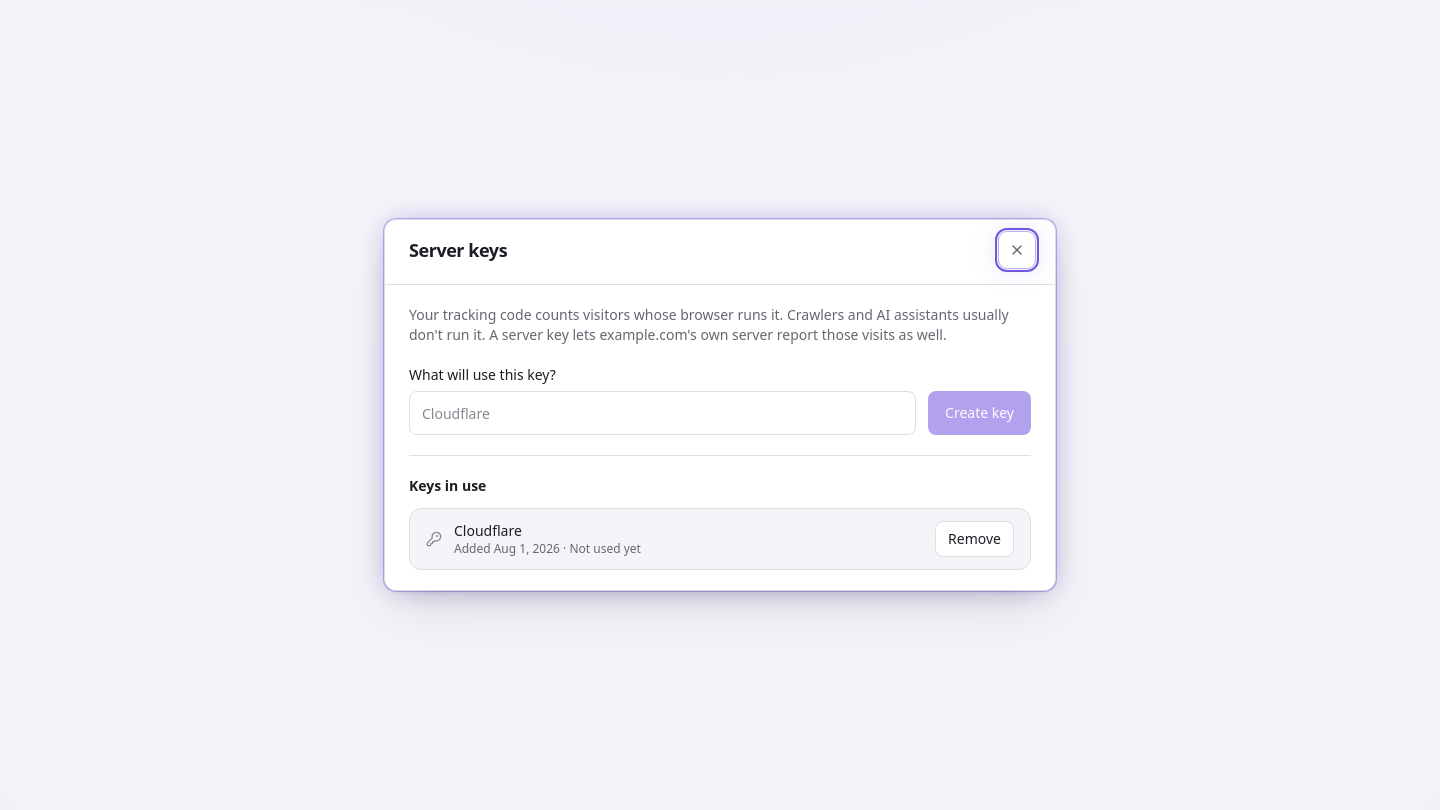
Test: the keys a website’s own server reports with › keeps the key when the asking is declined
The image size is (1440, 810).
Click the button "Remove" at (975, 539), box 935,521 -> 1014,557
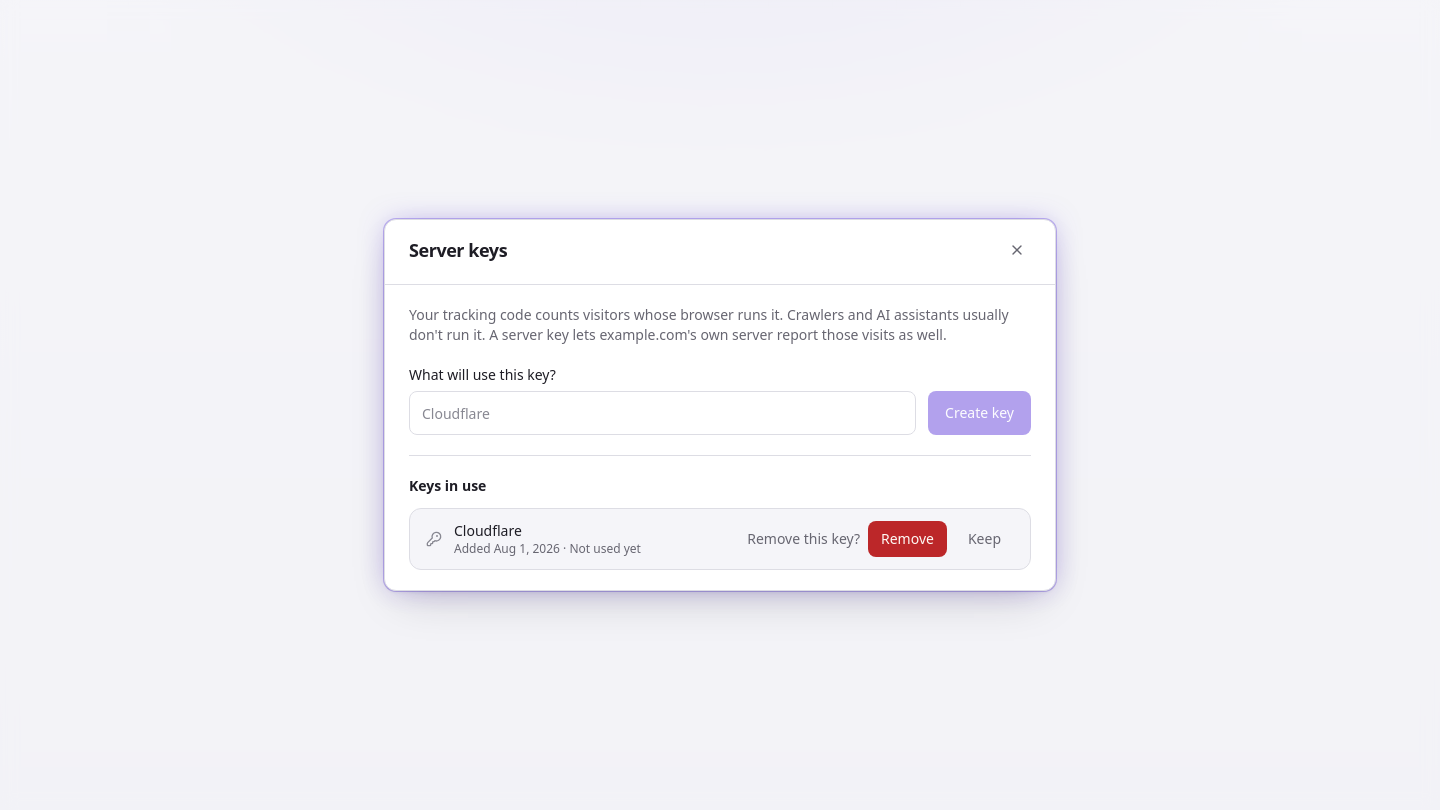
Click the button "Keep" at (984, 539), box 955,521 -> 1014,557
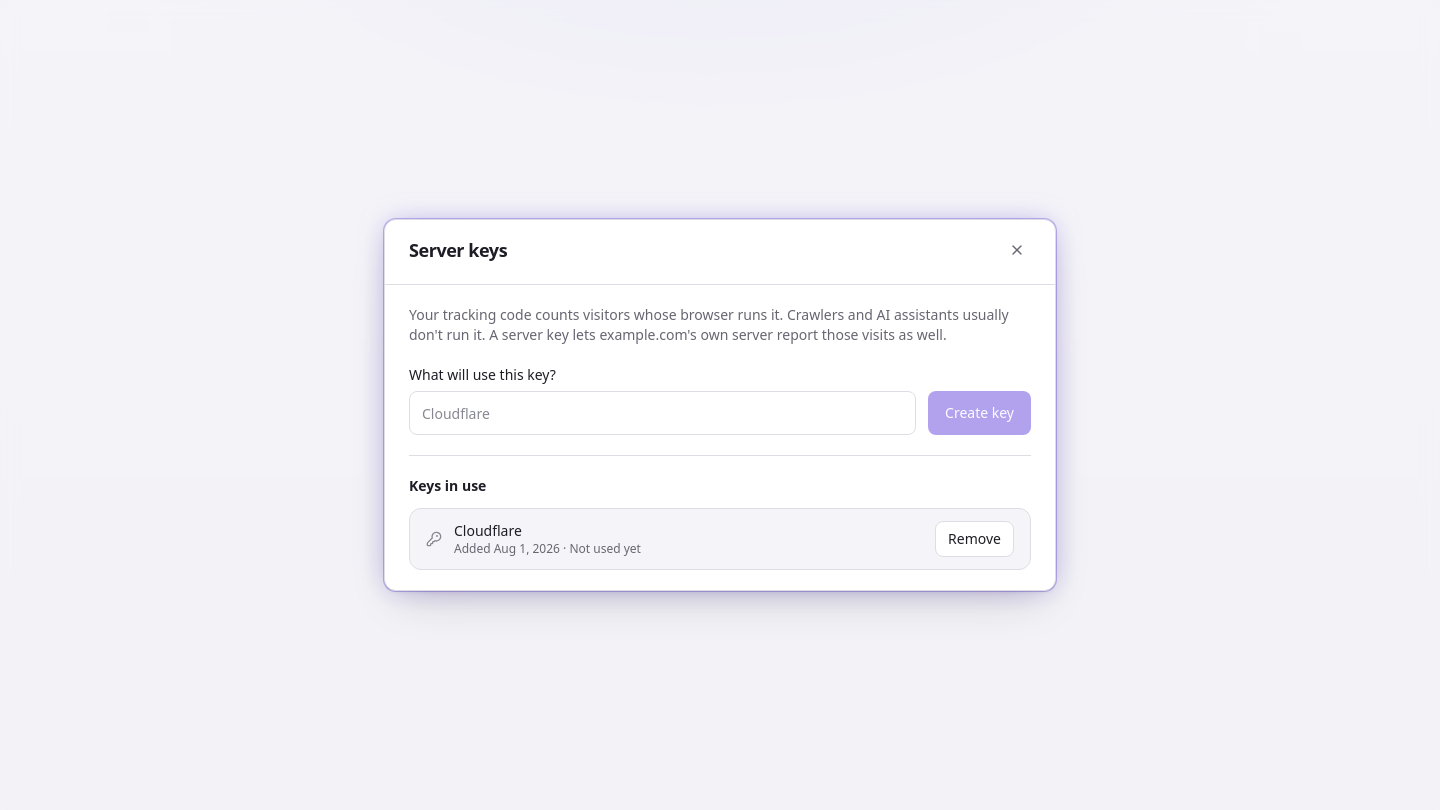
Expected: the text "Remove this key?" is gone
